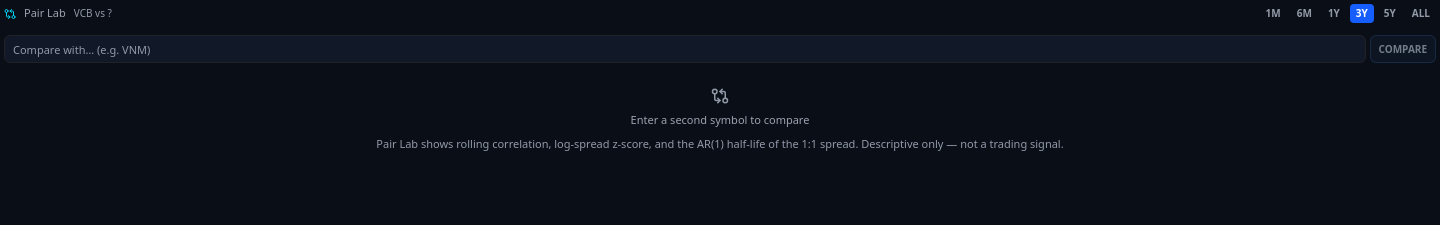
Test: PairLabWidget OLS diagnostics › keeps the not-deployed 1:1 fallback for HTTP 404
Type "VNM" into the field named "Pair symbol".
click(685, 49); type("VNM")  # box [4, 35, 1366, 63]
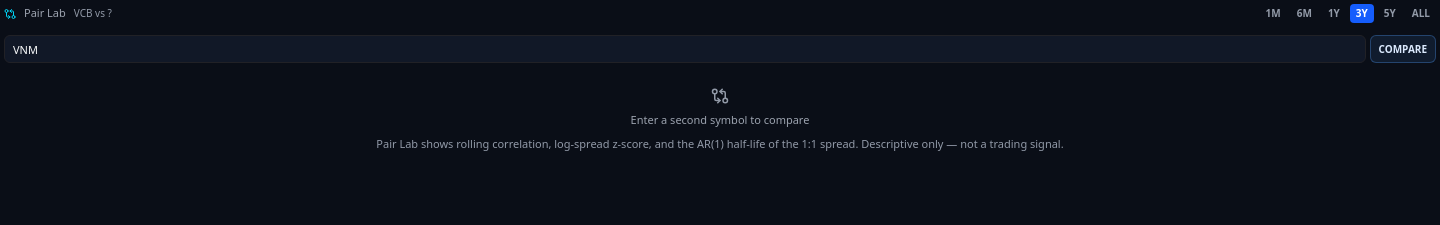
Click the button "Compare".
click(1403, 49)  # box [1370, 35, 1436, 63]
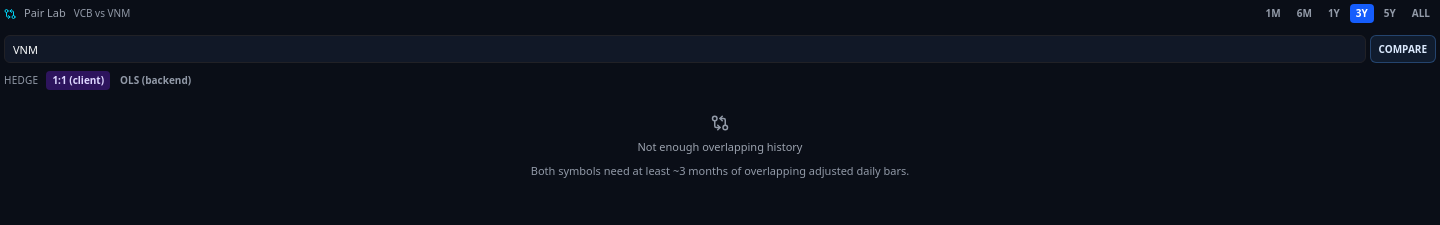
Click the button "OLS (backend)".
click(156, 80)  # box [114, 71, 197, 90]
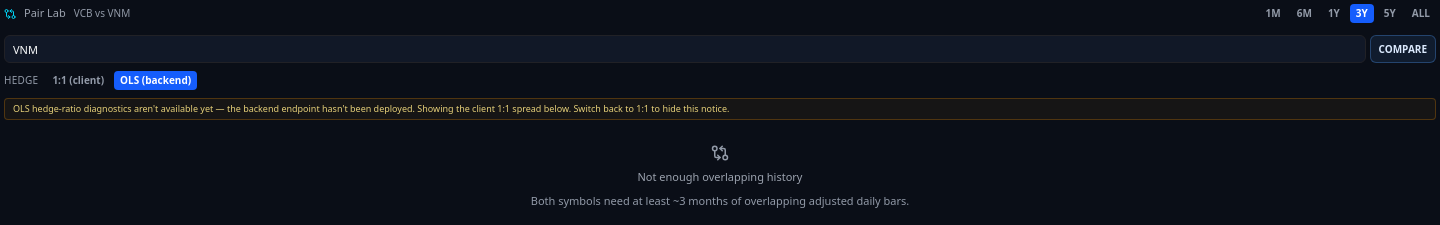
Result: the text "backend endpoint hasn.t been deployed" is shown at [13, 102, 729, 115]
